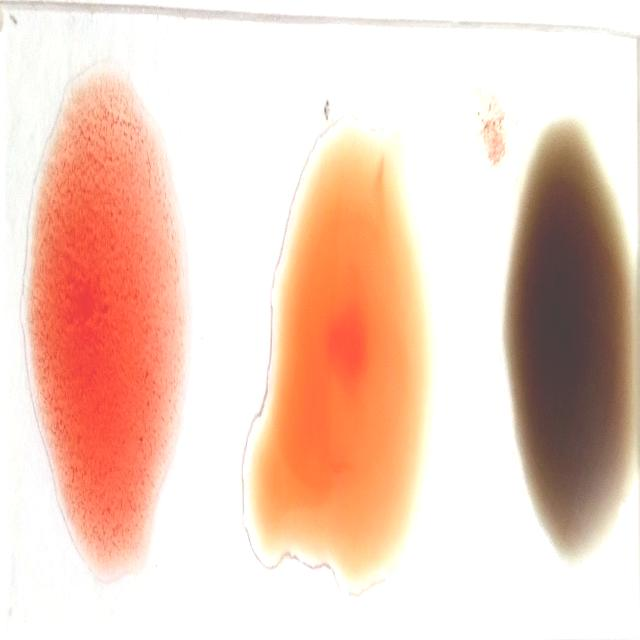D: (26, 82, 188, 574)
